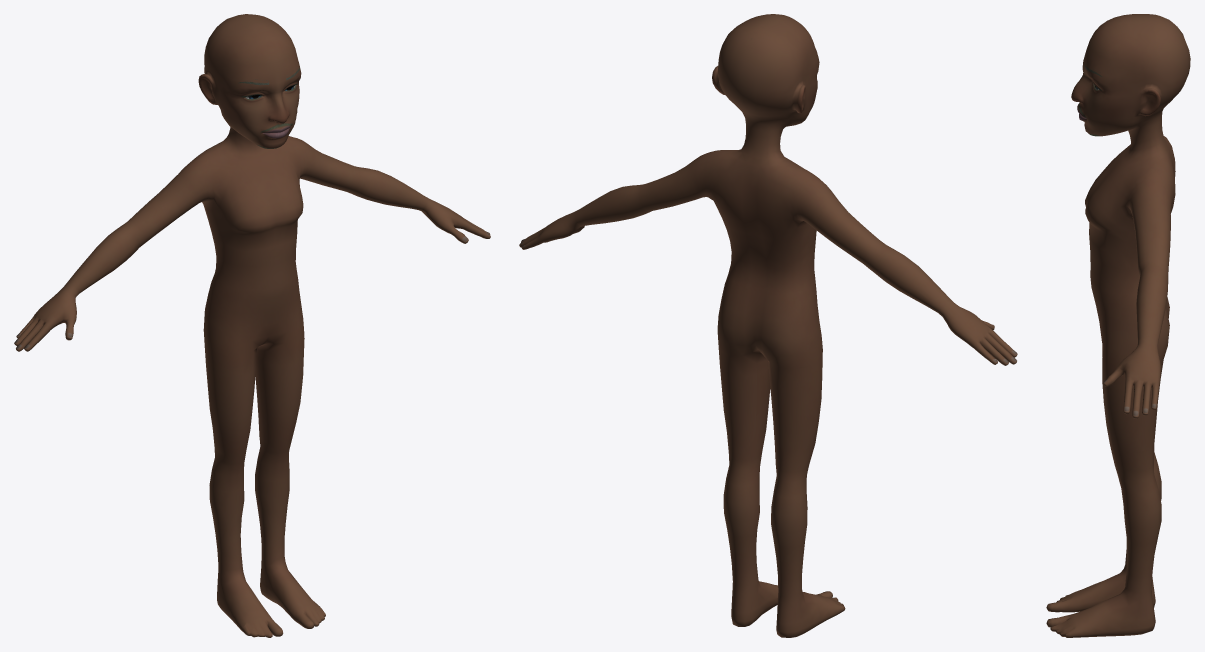
Rendered from frame_0056.glb.
3 views of the same model, side by side, from view 1: azimuth 30°, elevation 25°; view 2: azimuth 150°, elevation 25°; view 3: azimuth 270°, elevation 25° (orthographic). The views are drawn at different scales.
Visible parts, largest first — view 1: frame_0056_head_geo; view 2: frame_0056_head_geo; view 3: frame_0056_head_geo.
Boxes of the visible parts, <box> form: frame_0056_head_geo: <box>14,14,490,637</box>; frame_0056_head_geo: <box>519,14,1017,637</box>; frame_0056_head_geo: <box>1046,14,1190,637</box>.
Bounding box in the file's own units: 1.28 × 1.5 × 0.3253.
3 materials, 3 textured.
